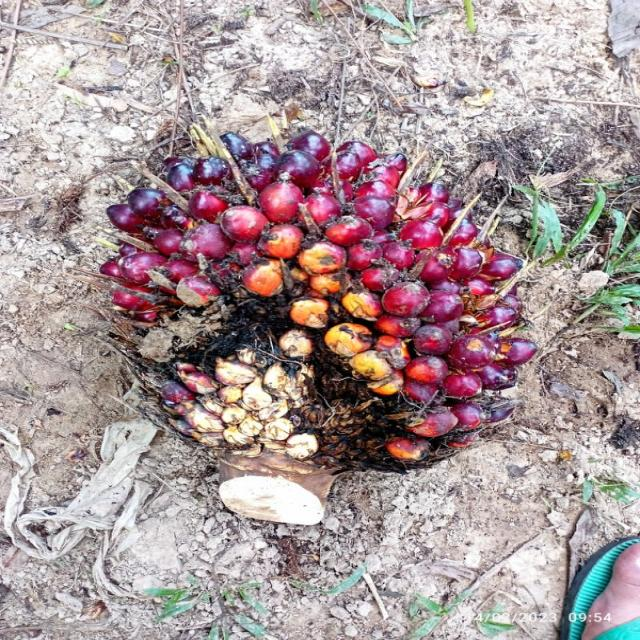fraksi 3: (105, 125, 540, 490)
